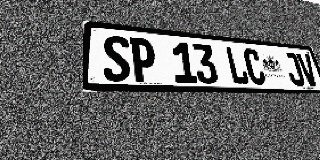1: (171, 41, 198, 83)
3: (192, 43, 219, 84)
C: (242, 48, 267, 85)
J: (282, 52, 306, 86)
L: (224, 46, 250, 85)
P: (129, 37, 157, 82)
S: (103, 35, 131, 82)
V: (296, 53, 320, 86)
